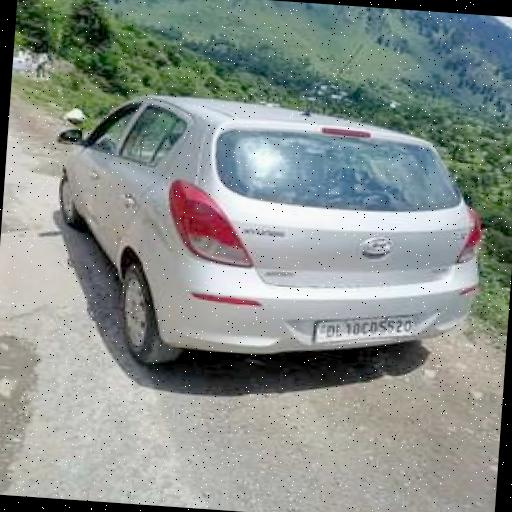license_plate`: (313, 308, 414, 347)
